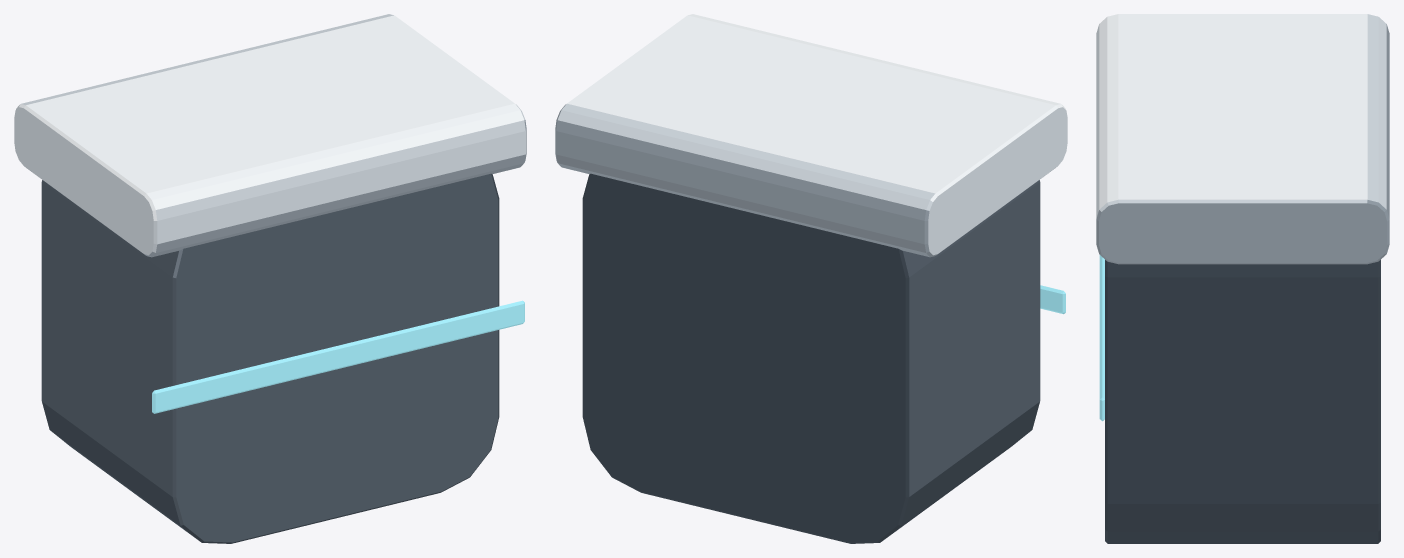
Rendered from Bridge_Deck.gltf.
3 views of the same model, side by side, from view 1: azimuth 30°, elevation 25°; view 2: azimuth 150°, elevation 25°; view 3: azimuth 270°, elevation 25° (orthographic). The views are drawn at different scales.
Visible parts, largest first — view 1: Bridge_Deck_baked; view 2: Bridge_Deck_baked; view 3: Bridge_Deck_baked.
Boxes of the visible parts, left/top/right/bottom form: Bridge_Deck_baked: left=14, top=14, right=526, bottom=543; Bridge_Deck_baked: left=555, top=14, right=1067, bottom=543; Bridge_Deck_baked: left=1096, top=14, right=1389, bottom=543.
Bounding box in the file's own units: 1 × 0.9375 × 0.66.
